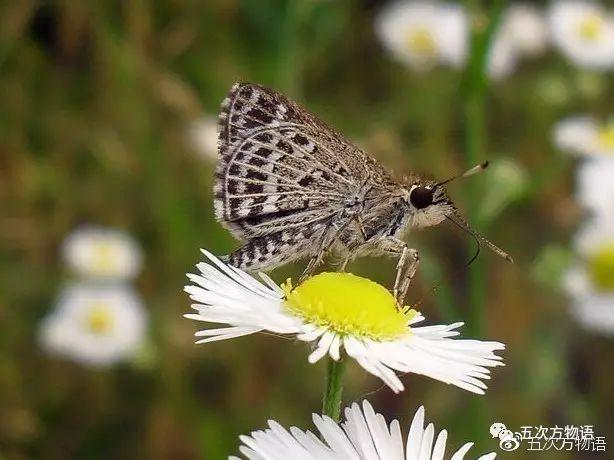Hesperiidae: (210, 77, 511, 304)
